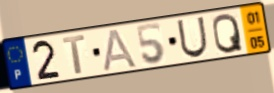2: (31, 39, 63, 82)
5: (134, 20, 167, 67)
A: (102, 27, 140, 73)
Q: (211, 12, 245, 55)
T: (61, 33, 87, 76)
U: (175, 15, 210, 60)
